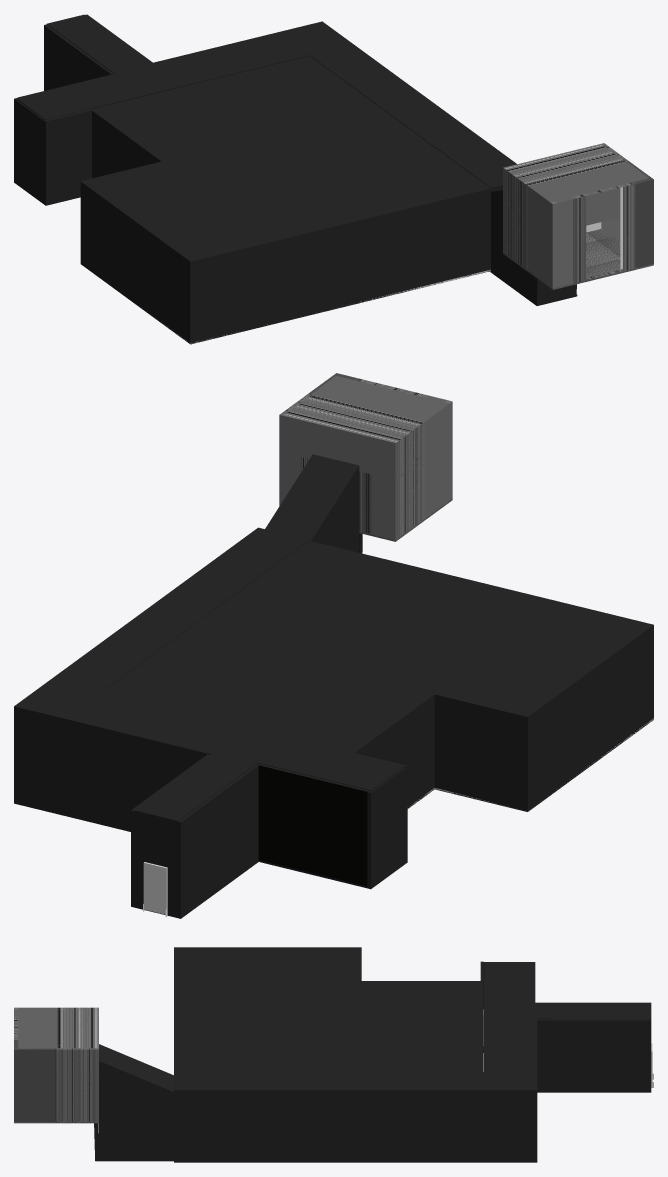
File: bunker_inside.fbx
3 views of the same model, one above another, from view 1: azimuth 30°, elevation 25°; view 2: azimuth 150°, elevation 25°; view 3: azimuth 270°, elevation 25° (orthographic). The views are drawn at different scales.
Visible parts, largest first — view 1: Room, RampLandingBottom, RampLandingTop; view 2: Room, RampLandingBottom, RampLandingTop, CTRL_Hole; view 3: RampLandingBottom, Room, RampLandingTop.
Part boxes in pixels (box(x1,y1,x2,y2)): Room: box(80, 56, 490, 344); RampLandingBottom: box(14, 14, 577, 305); RampLandingTop: box(503, 143, 653, 289); Room: box(101, 540, 653, 811); RampLandingBottom: box(14, 454, 407, 918); RampLandingTop: box(279, 373, 452, 541); CTRL_Hole: box(143, 862, 167, 914); RampLandingBottom: box(94, 961, 651, 1162); Room: box(174, 947, 483, 1071); RampLandingTop: box(14, 1007, 98, 1123).
Bounding box in the file's own units: 3099 × 1161 × 5432.
Materials: 6 (3 with a texture image).
